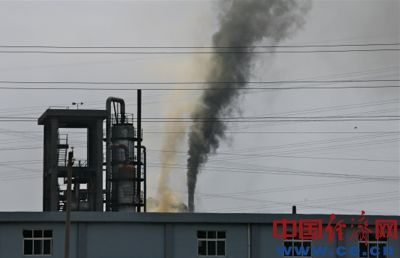dust: (183, 13, 271, 179), (148, 58, 202, 184)
